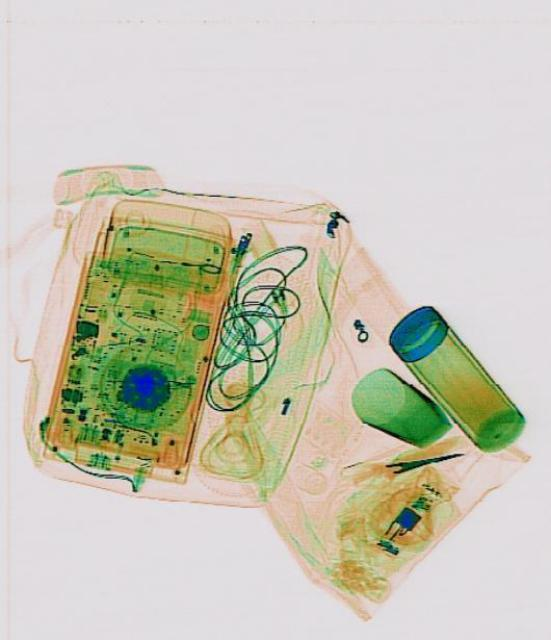Knife: (382, 446, 463, 474)
